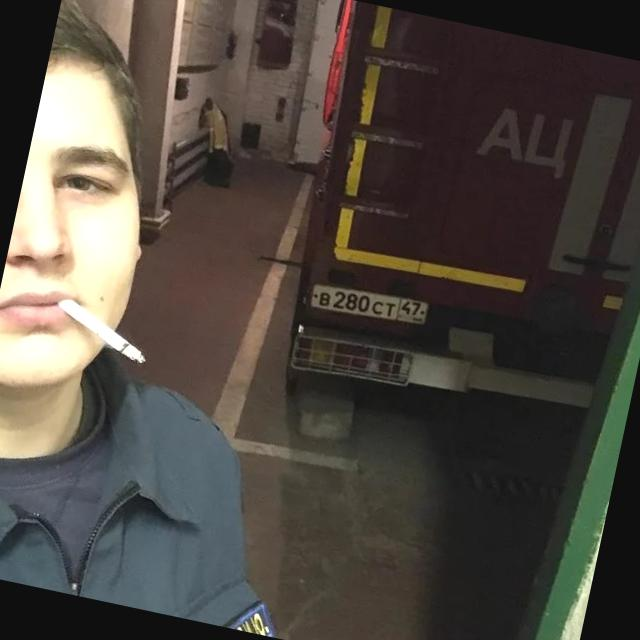cigarette: (46, 293, 158, 369)
